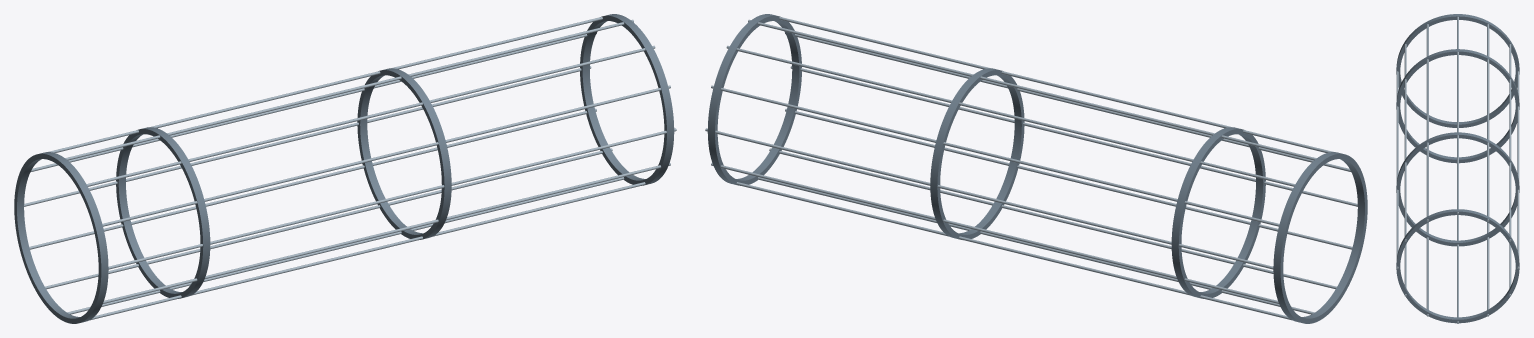
The model's file is bypass-lattice.glb.
3 renders of one model, left to right at view 1: azimuth 30°, elevation 25°; view 2: azimuth 150°, elevation 25°; view 3: azimuth 270°, elevation 25°, orthographic. The views are drawn at different scales.
Parts seen in each view (by area): view 1: bypass-lattice - steel, bypass-lattice - shell; view 2: bypass-lattice - steel, bypass-lattice - shell; view 3: bypass-lattice - shell, bypass-lattice - steel.
Part boxes in pixels (bbox=[...]): bypass-lattice - steel: bbox=[24, 17, 676, 320]; bypass-lattice - shell: bbox=[14, 14, 674, 323]; bypass-lattice - steel: bbox=[705, 17, 1357, 320]; bypass-lattice - shell: bbox=[707, 14, 1367, 323]; bypass-lattice - shell: bbox=[1396, 14, 1519, 323]; bypass-lattice - steel: bbox=[1396, 16, 1519, 323].
Bounding box in the file's own units: 7.63 × 2 × 2.
